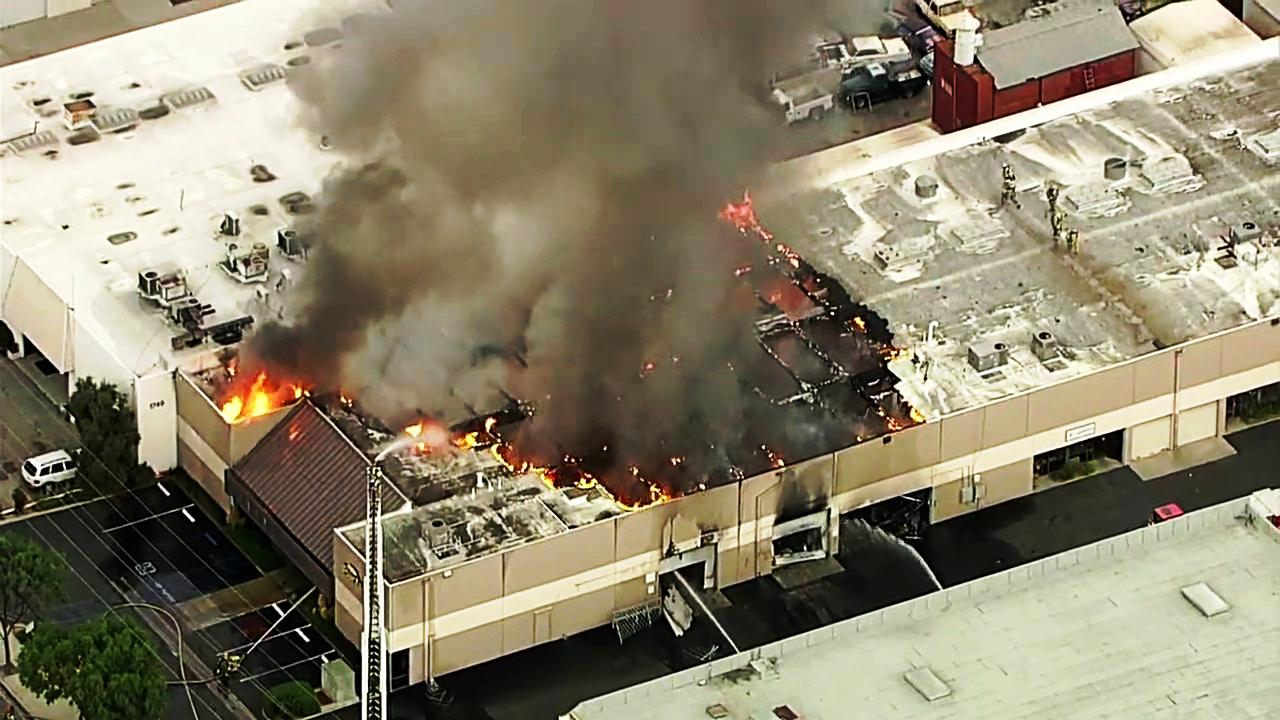fire: (225, 384, 286, 424)
smoke: (335, 0, 684, 342)
